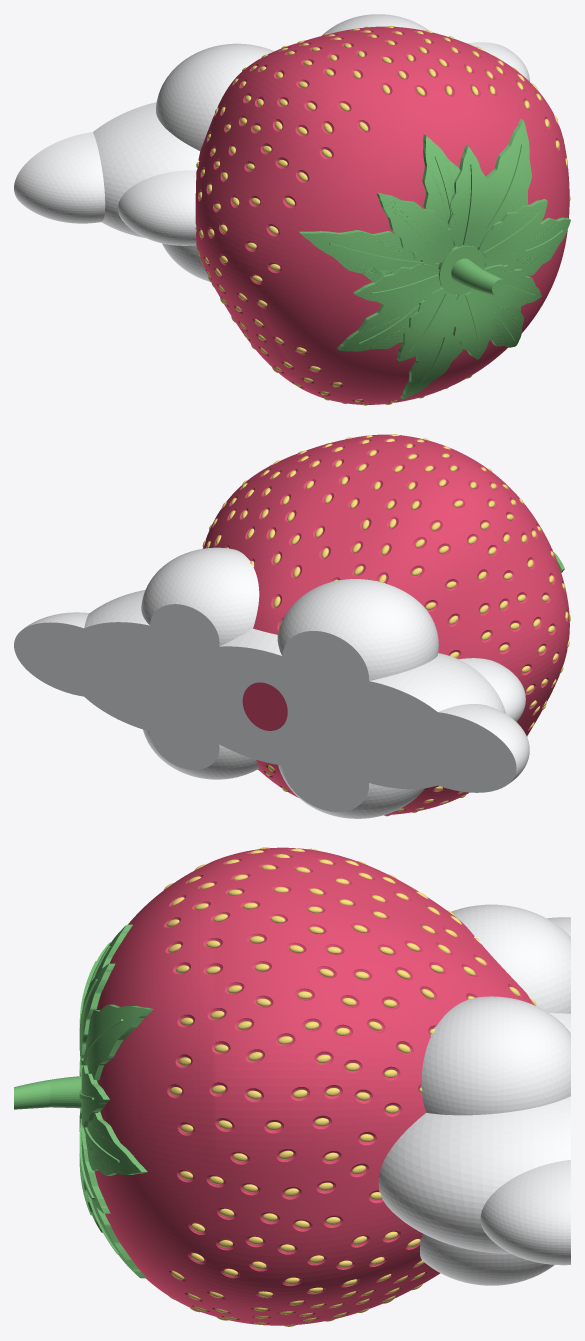
File: shapes.glb
3 renders of one model, top to bottom at view 1: azimuth 30°, elevation 25°; view 2: azimuth 150°, elevation 25°; view 3: azimuth 270°, elevation 25°, orthographic. The views are drawn at different scales.
Parts seen in each view (by area): view 1: strawberry-body, strawberry-leaves, cloud, strawberry-seeds; view 2: cloud, strawberry-body, strawberry-seeds; view 3: strawberry-body, cloud, strawberry-seeds, strawberry-leaves.
Boxes of the visible parts, x1,y1,x2,y2 form: strawberry-body: (195,26,569,404); strawberry-leaves: (299,119,570,399); cloud: (14,14,529,281); strawberry-seeds: (195,26,570,405); cloud: (14,547,529,818); strawberry-body: (202,434,569,814); strawberry-seeds: (202,434,570,816); strawberry-body: (94,847,534,1325); cloud: (378,904,570,1285); strawberry-seeds: (164,847,536,1326); strawberry-leaves: (14,924,153,1278).
Size of the model in its own units: 290 by 191 by 223.
